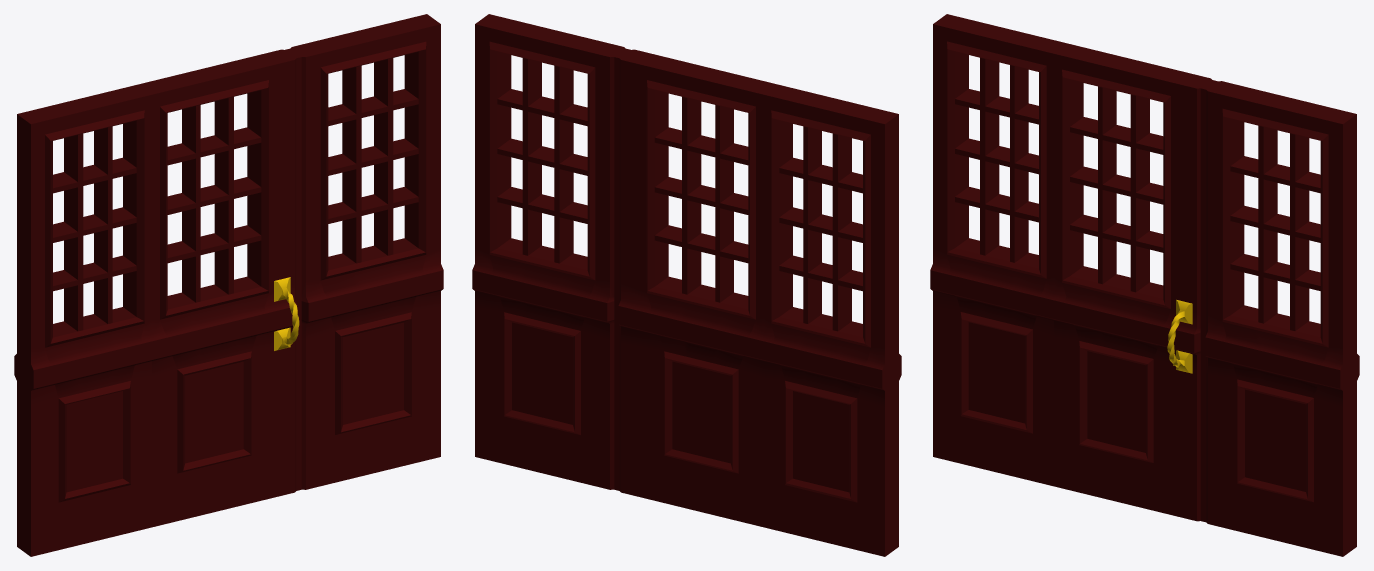
The model's file is Door.fbx.
3 renders of one model, left to right at view 1: azimuth 30°, elevation 25°; view 2: azimuth 150°, elevation 25°; view 3: azimuth 330°, elevation 25°, orthographic.
Visible parts, largest first — view 1: Door; view 2: Door; view 3: Door.
Part boxes in pixels (left/top/right/bottom): Door: left=14, top=14, right=443, bottom=556; Door: left=472, top=14, right=901, bottom=556; Door: left=930, top=14, right=1359, bottom=556.
Bounding box in the file's own units: 189 × 190 × 25.24.
